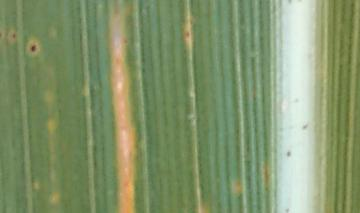tarspot: (119, 36, 129, 45), (30, 43, 38, 53), (183, 28, 191, 38), (11, 32, 17, 39), (1, 28, 3, 39)
